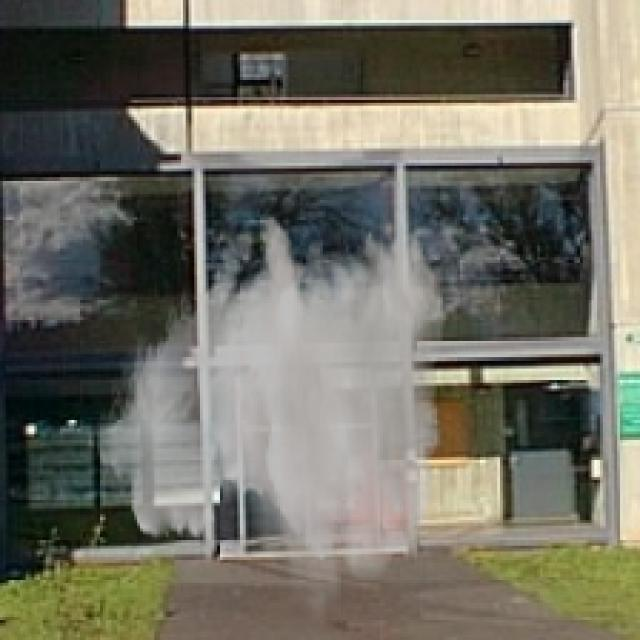smoke: (86, 212, 446, 628)
